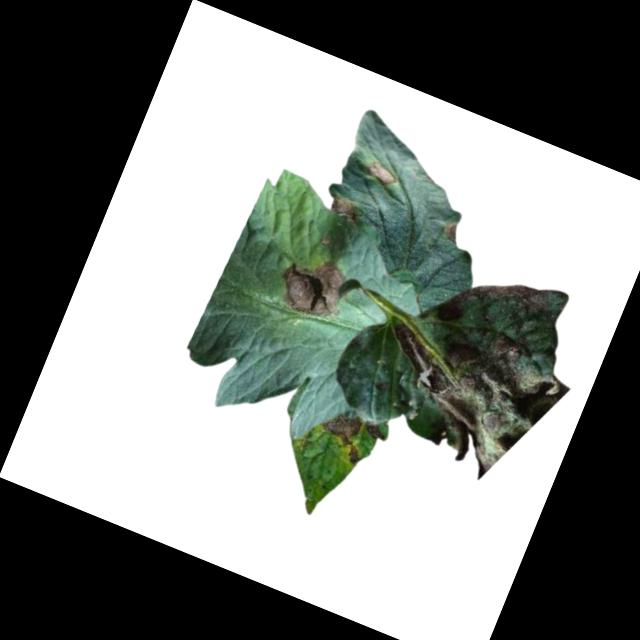Early_blight: (353, 236, 601, 496), (272, 246, 355, 327), (311, 404, 375, 467), (328, 191, 367, 224), (364, 156, 400, 185), (438, 215, 468, 246), (361, 417, 390, 443)
